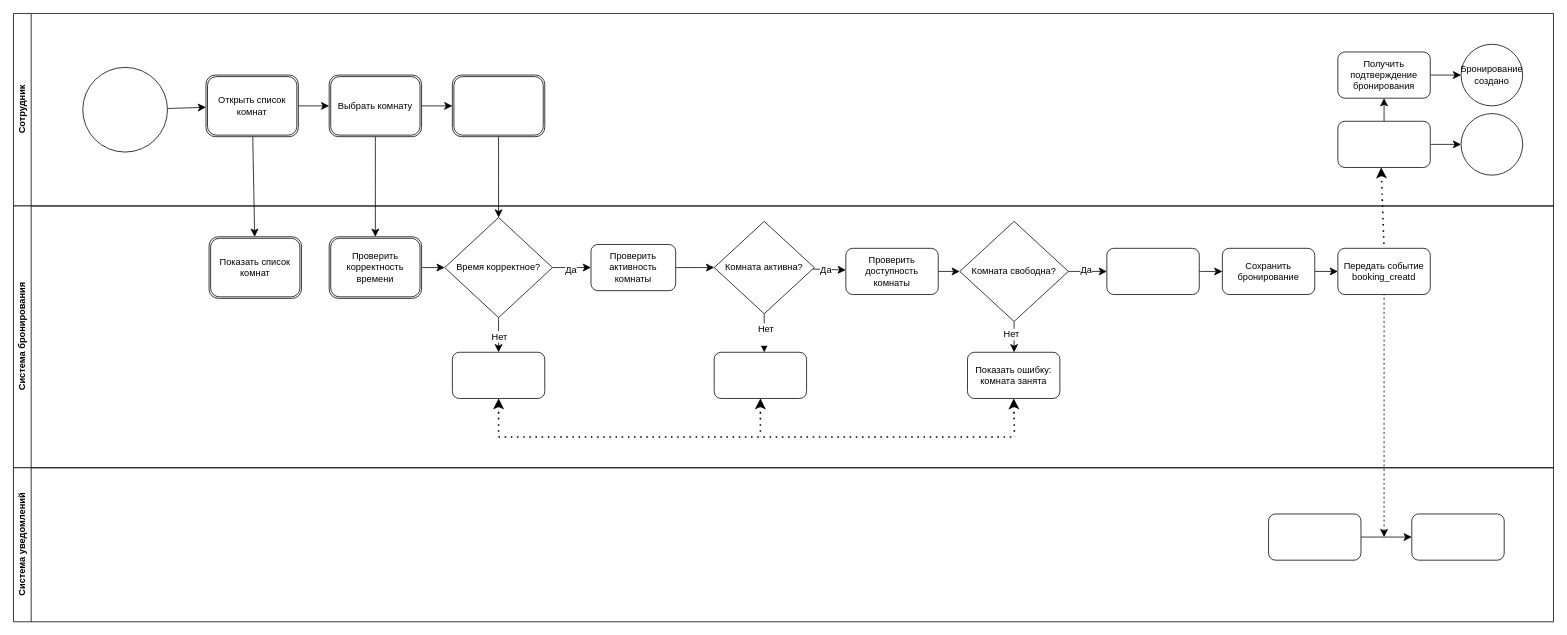
Some shapes in this 1567 by 635 pixel diagram are drawn without their labels. The shapes that lost their labels are listed below. From the top down, each one's centre as x and y in pixels, then its label:
At point (124, 109): "Потребность забронировать комнату".
At point (498, 105): "Указать дату и время".
At point (1383, 144): "Получить сообщение об ошибке".
At point (1491, 144): "Бронирование не создано".
At point (1152, 271): "Создать бронирорвание".
At point (498, 375): "Показать ошибку: некорректное время".
At point (760, 375): "Показать ошибку: комната отключена".
At point (1314, 536): "Получить событие booking_created".
At point (1457, 536): "Отправить уведомление сотруднику".
